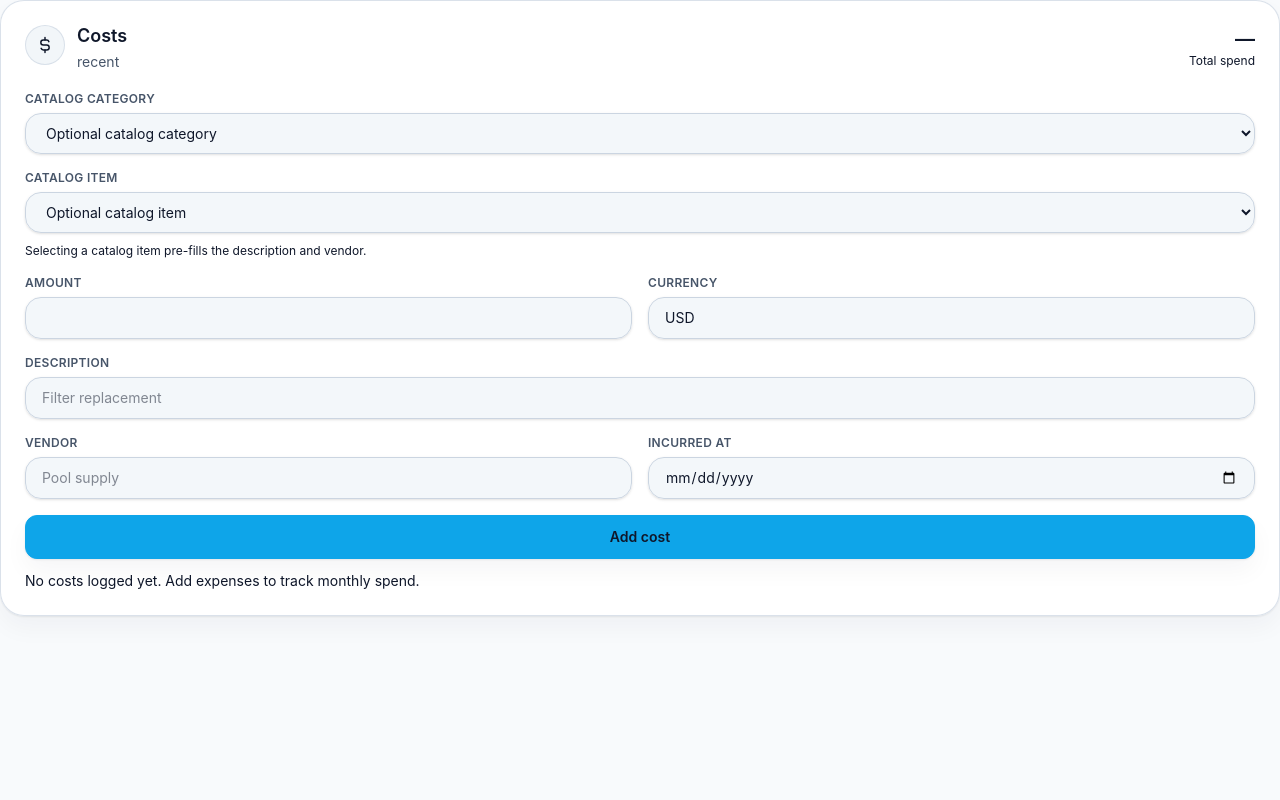
CostsCard › requires amount and description
In the number field labelled "Amount": (328, 318) x1=25 y1=297 x2=632 y2=339, type "12"
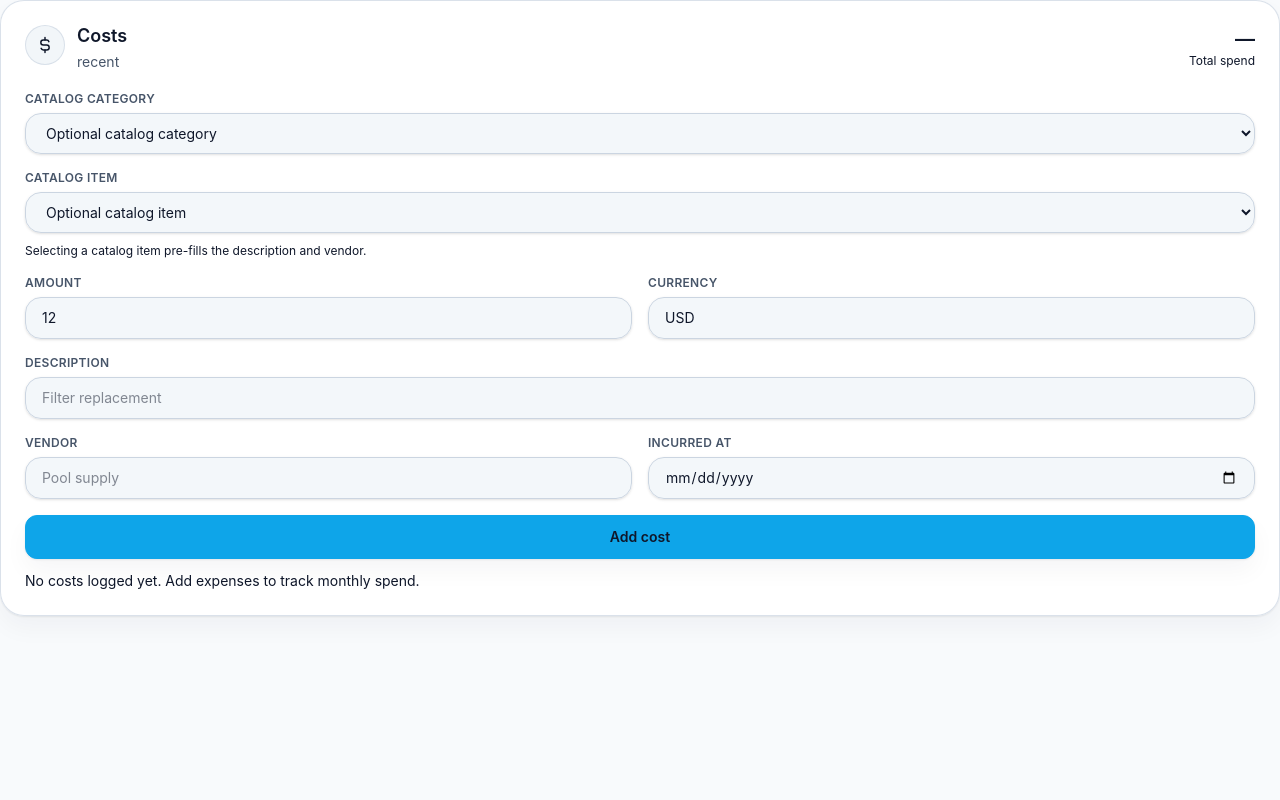
Click the button "Add cost": (640, 537) x1=25 y1=515 x2=1255 y2=559
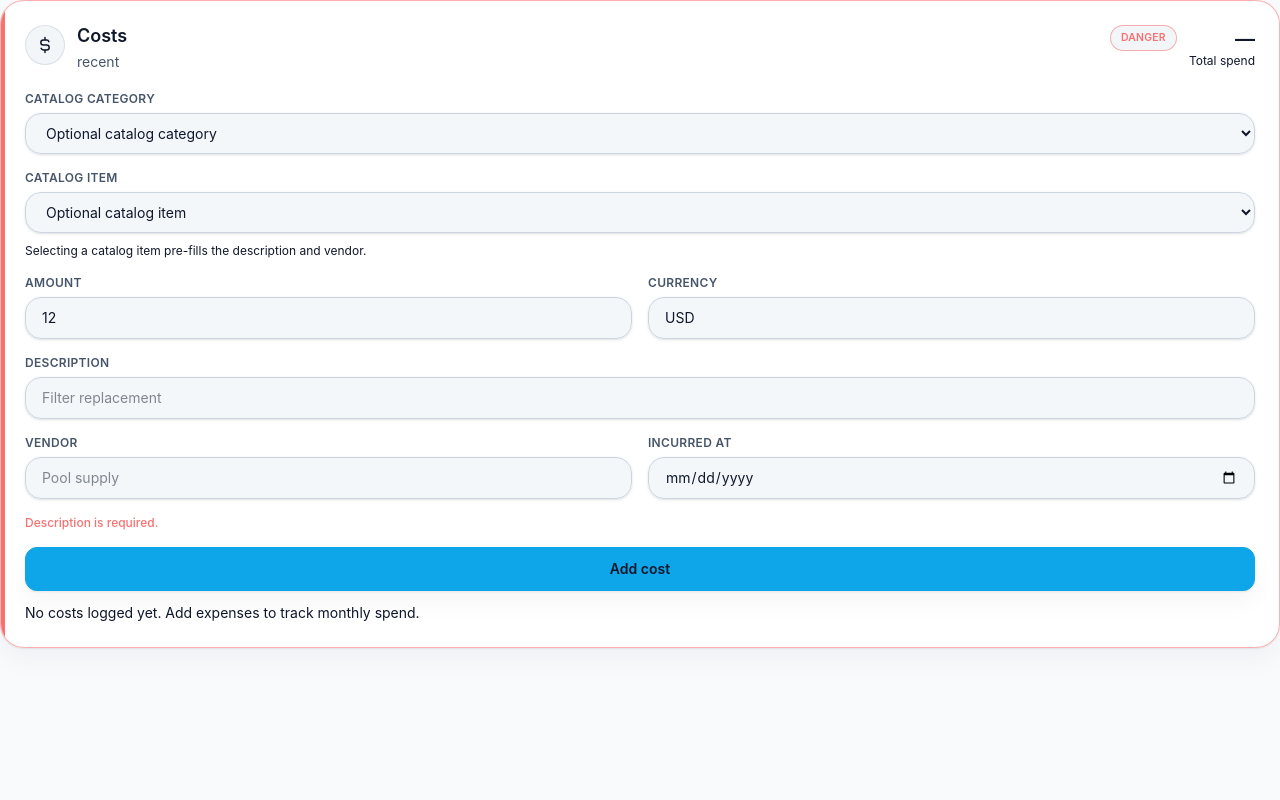
Result: the message shows "Description is required" at x1=25 y1=515 x2=158 y2=530
